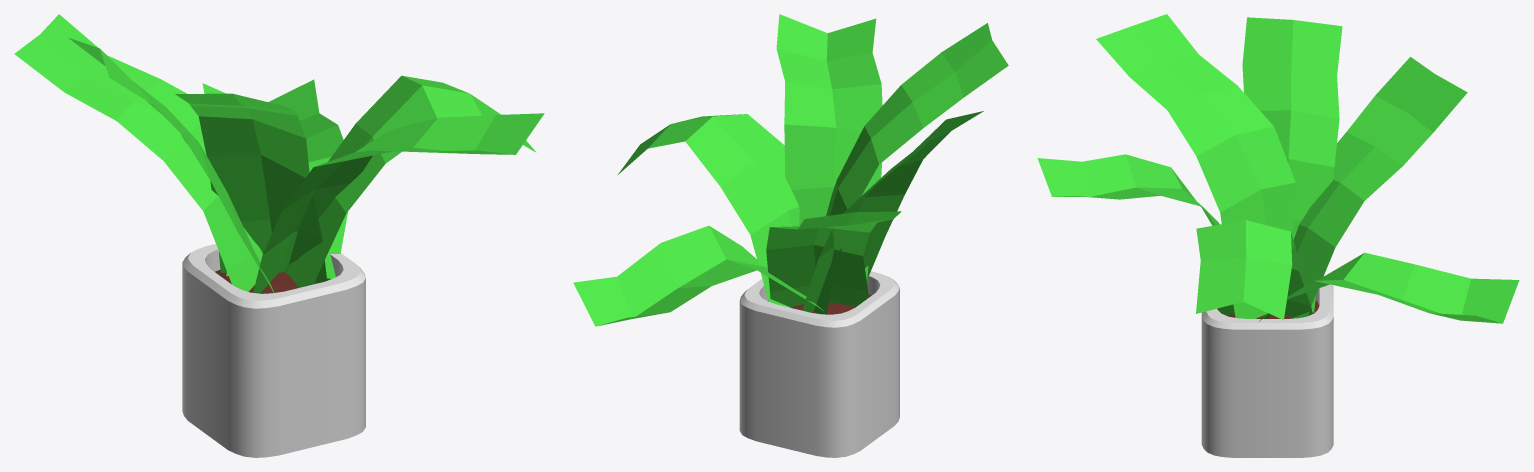
Rendered from Plant Test.fbx.
3 views of the same model, side by side, from view 1: azimuth 30°, elevation 25°; view 2: azimuth 150°, elevation 25°; view 3: azimuth 270°, elevation 25° (orthographic). The views are drawn at different scales.
Visible parts, largest first — view 1: Plane; view 2: Plane; view 3: Plane.
Boxes of the visible parts, left/top/right/bottom form: Plane: left=14, top=14, right=544, bottom=457; Plane: left=573, top=14, right=1008, bottom=457; Plane: left=1037, top=14, right=1519, bottom=457.
Size of the model in its own units: 2.71 by 2.66 by 3.28.
